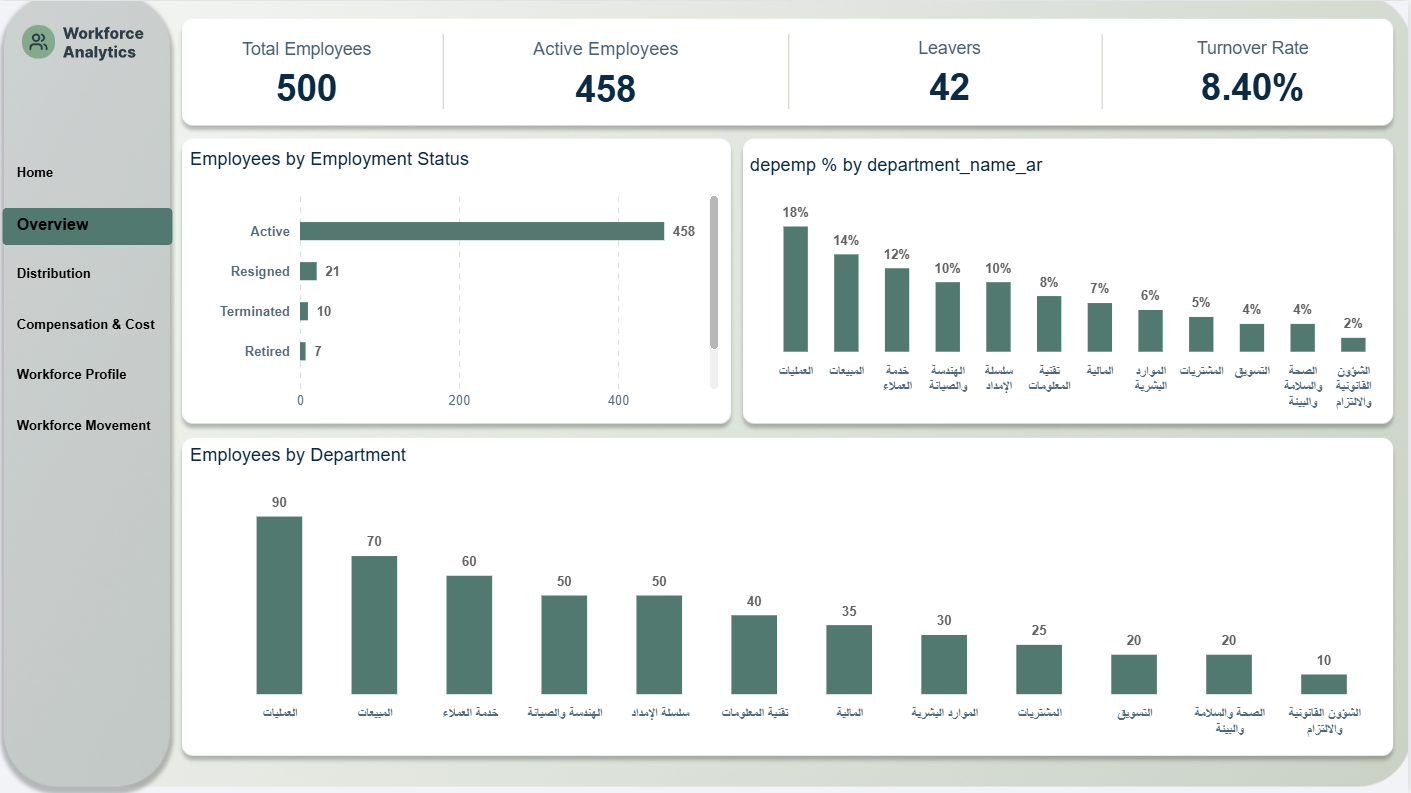

The page's visual inventory and layout, read from the dashboard file:
{"tool":"powerbi","page":{"name":" Overview","canvas":[1280,720],"ordinal":1},"visuals":[{"type":"cardVisual","fields":{"Data":["measures (2).Total Employees"]},"box":[196.8,8,163.2,96.7],"z":0},{"type":"cardVisual","fields":{"Data":["measures (2).Active Employees"]},"box":[462,2.7,178.2,106.4],"z":1000},{"type":"cardVisual","fields":{"Data":["measures (2).not active Employees"]},"box":[706,763,135.9,94.9],"z":2000},{"type":"cardVisual","fields":{"Data":["measures (2).Overall Rate"]},"box":[438,800,138.7,102.2],"z":3000},{"type":"cardVisual","fields":{"Data":["measures (2).Overall Rate"]},"box":[1056.1,8,165.8,95.8],"z":4000},{"type":"clusteredColumnChart","title":"Employees by Department","fields":{"Y":["measures (2).Total Employees"],"Category":["departments.department_name_ar"]},"box":[152.5,383.1,1127.9,309.5],"z":5000},{"type":"clusteredBarChart","title":"Employees by Employment Status","fields":{"Category":["employees.employment_status"],"Y":["measures (2).Total Employees"]},"box":[152.5,113.5,520.5,281.1],"z":6000},{"type":"clusteredColumnChart","fields":{"Y":["measures (2).Measure"],"Category":["departments.department_name_ar"]},"box":[661.5,118.8,618.9,275.8],"z":7000},{"type":"cardVisual","fields":{"Data":["measures (2).not active Employees"]},"box":[767,0,192.4,109.1],"z":8000},{"type":"pageNavigator","box":[0,140,159.1,270],"z":9000},{"type":"image","box":[0,0,197.3,76.4],"z":10000}]}

Visuals, with their boxes on the page's 1280x720 design canvas (x1, y1, x2, y2). These are canvas units, not pixel positions in the 1411x793 screenshot, which may show the page scaled, cropped or inside an application window:
cardVisual - measures (2).Total Employees: 197, 8, 360, 105
cardVisual - measures (2).Active Employees: 462, 3, 640, 109
cardVisual - measures (2).not active Employees: 706, 763, 842, 858
cardVisual - measures (2).Overall Rate: 438, 800, 577, 902
cardVisual - measures (2).Overall Rate: 1056, 8, 1222, 104
"Employees by Department" clusteredColumnChart: 152, 383, 1280, 693
"Employees by Employment Status" clusteredBarChart: 152, 114, 673, 395
clusteredColumnChart - measures (2).Measure x departments.department_name_ar: 662, 119, 1280, 395
cardVisual - measures (2).not active Employees: 767, 0, 959, 109
pageNavigator: 0, 140, 159, 410
image: 0, 0, 197, 76
